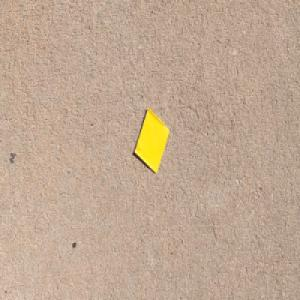PlasticPart: (133, 107, 170, 174)
